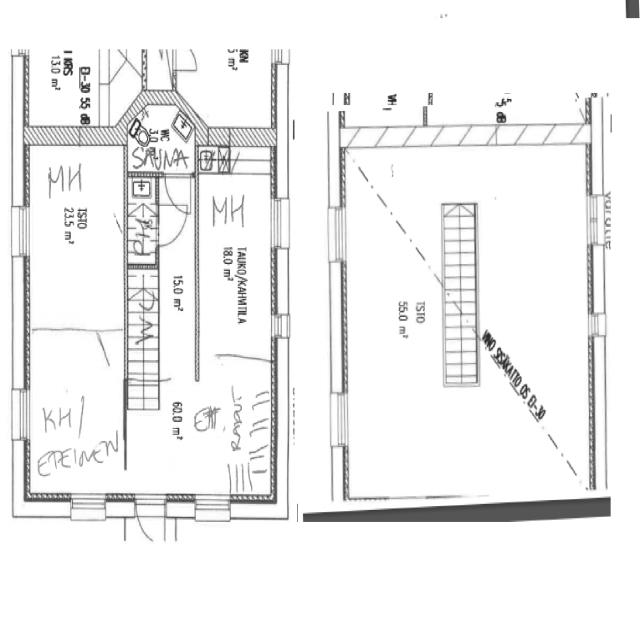door: (132, 494, 169, 548), (161, 163, 194, 217), (158, 203, 189, 246), (176, 46, 200, 77)
window: (328, 386, 352, 456), (327, 201, 350, 271), (10, 201, 34, 265), (268, 193, 290, 256), (584, 190, 606, 252), (12, 385, 34, 447), (192, 490, 234, 522), (67, 489, 109, 518), (268, 307, 292, 343), (585, 307, 606, 341)
zone: (340, 136, 600, 502), (128, 365, 275, 493), (195, 136, 274, 369), (26, 147, 125, 332), (25, 327, 126, 494), (128, 100, 192, 174), (126, 177, 159, 266), (192, 490, 233, 526)
